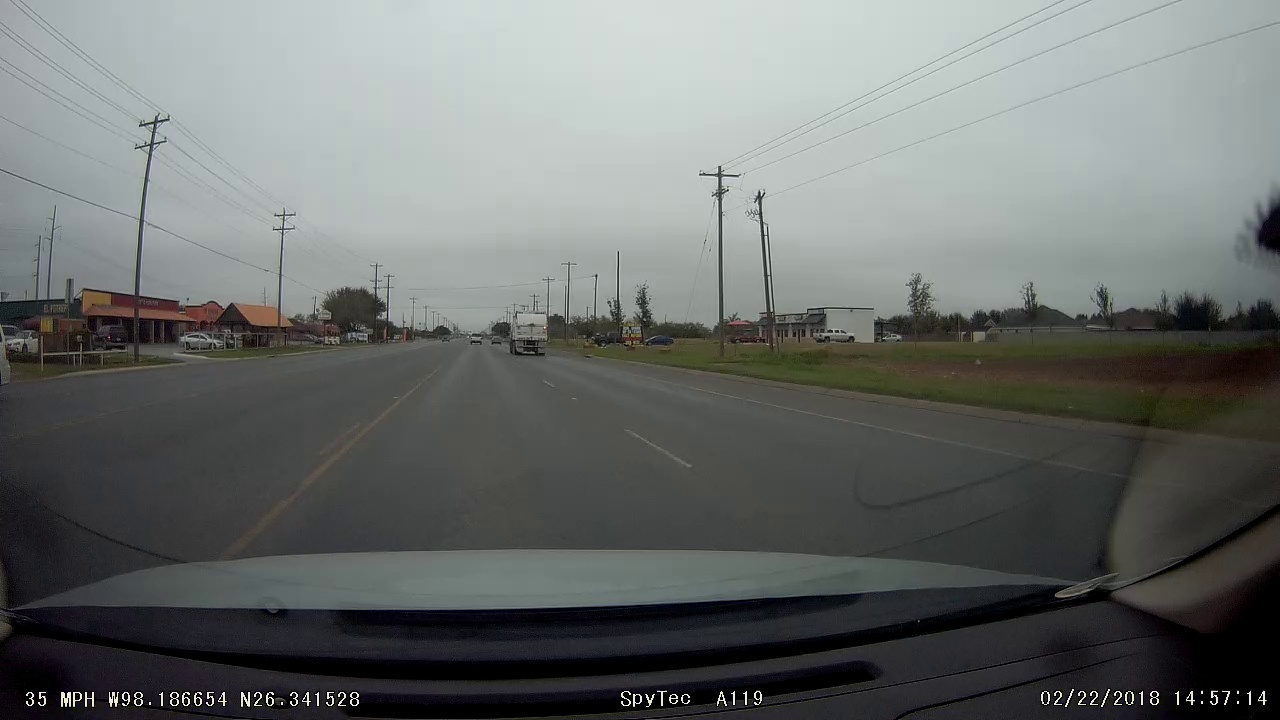blurredLine: (931, 431, 1038, 463), (264, 479, 362, 508)
